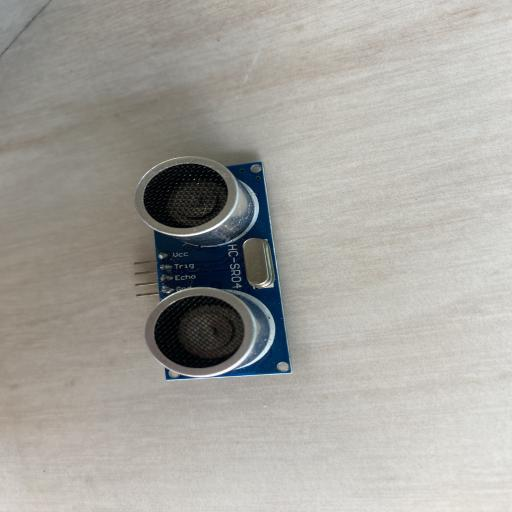Ultrasonic Sensor: (134, 155, 294, 381)
